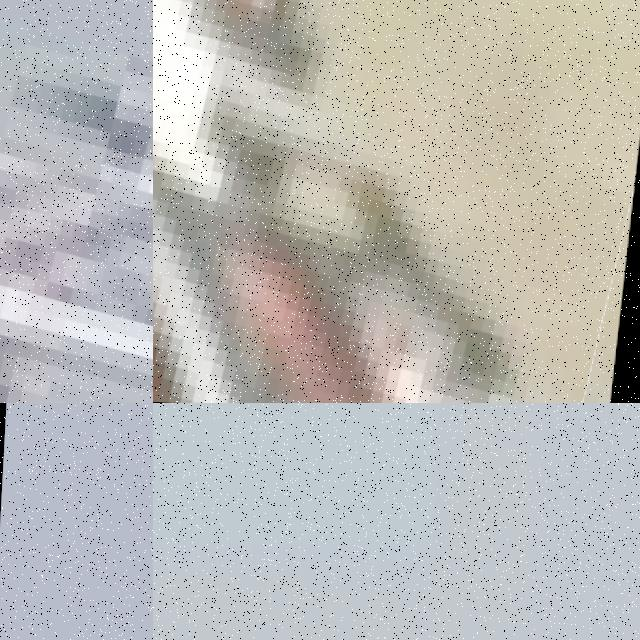0: (0, 0, 153, 403)
drone: (153, 0, 640, 403)
